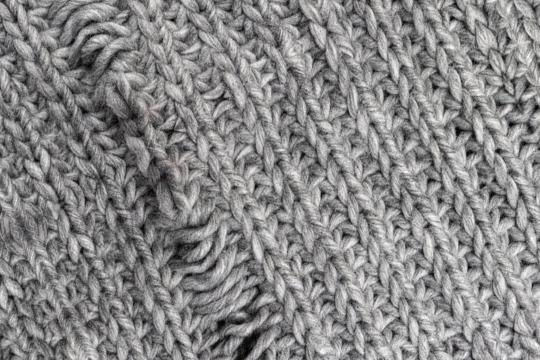slub: (159, 213, 315, 360), (39, 2, 150, 86)
